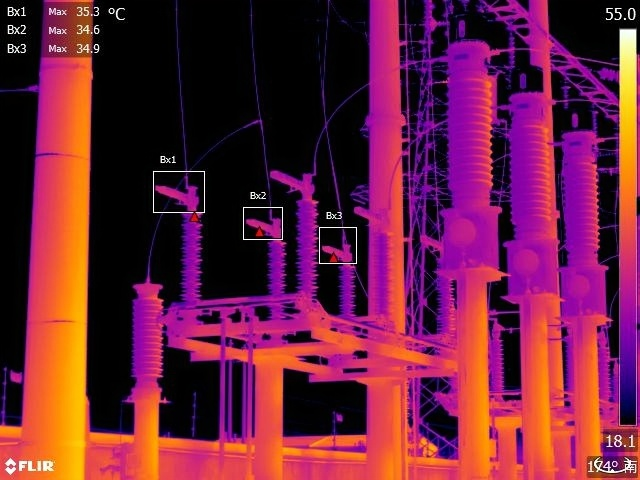clamp: (247, 112, 265, 126)
current transformer: (437, 6, 504, 283), (503, 49, 561, 308), (558, 94, 613, 332)
post insulator: (292, 197, 323, 301), (180, 205, 211, 305), (264, 238, 286, 319), (334, 260, 364, 319), (428, 260, 452, 332), (492, 334, 509, 400), (598, 337, 610, 406)
potential transformer: (126, 268, 173, 396)
switch: (265, 161, 320, 203), (156, 178, 204, 212), (242, 212, 281, 238), (325, 237, 358, 264)
